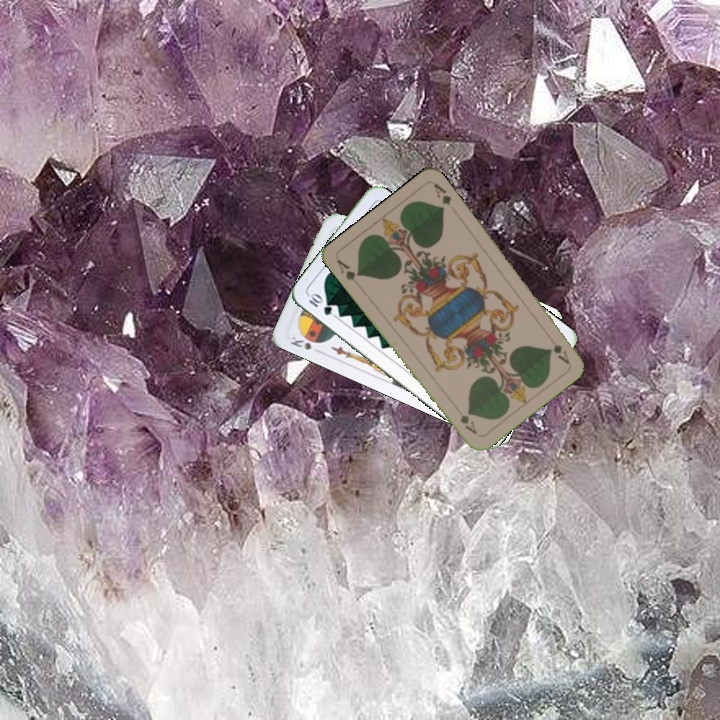G10: (304, 290, 335, 318)
GA: (332, 256, 364, 290), (550, 340, 572, 367)
SK: (286, 331, 323, 353)
